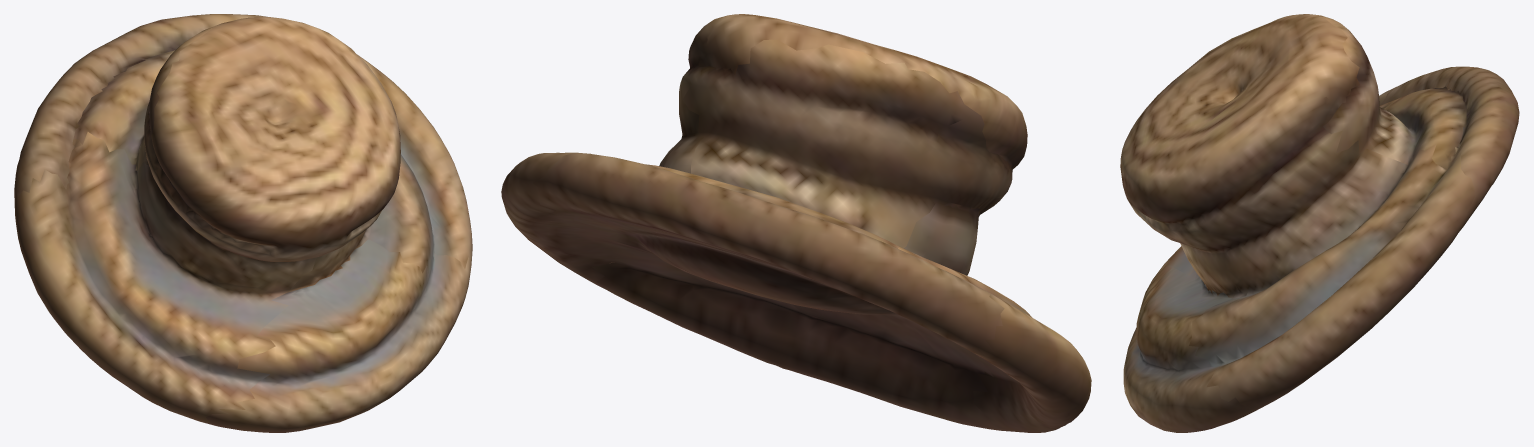
The model's file is v22_esteira_enrolada.glb.
3 renders of one model, left to right at view 1: azimuth 30°, elevation 25°; view 2: azimuth 150°, elevation 25°; view 3: azimuth 270°, elevation 25°, orthographic. The views are drawn at different scales.
Visible parts, largest first — view 1: v22_esteira_enrolada; view 2: v22_esteira_enrolada; view 3: v22_esteira_enrolada.
Part boxes in pixels (x1,y1,x2,y2): v22_esteira_enrolada: (14, 14, 472, 432); v22_esteira_enrolada: (501, 14, 1091, 432); v22_esteira_enrolada: (1120, 14, 1519, 432).
Size of the model in its own units: 0.549 by 0.433 by 0.4287.
Materials: 1 (1 with a texture image).
